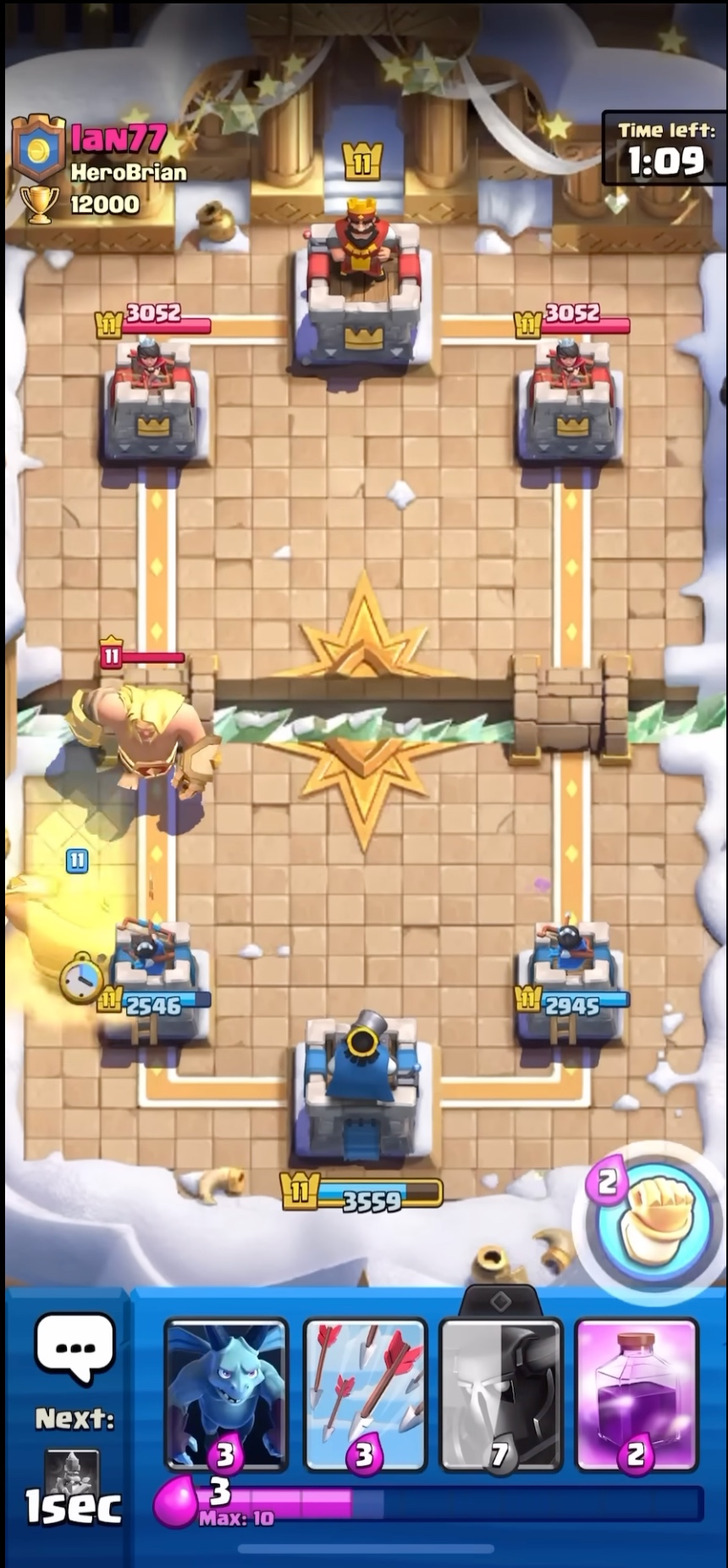hero-giant: (63, 634, 226, 809)
